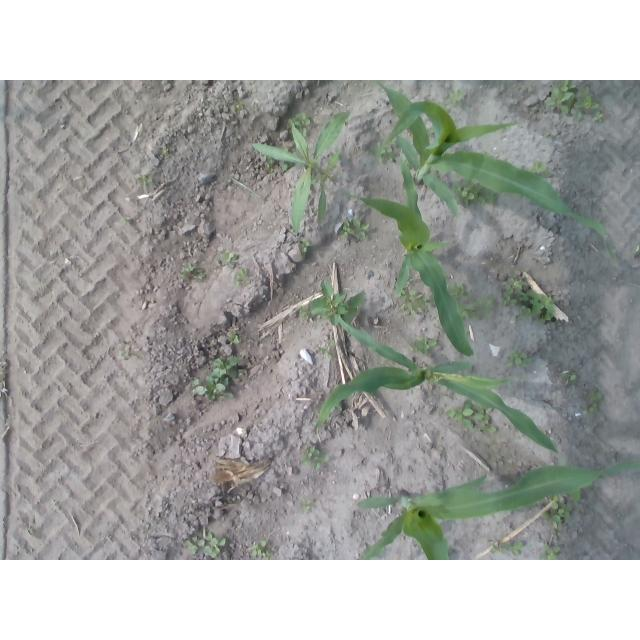Maize: (379, 86, 618, 262), (314, 312, 560, 457), (353, 457, 639, 559), (342, 157, 475, 354)
Weeds: (250, 112, 354, 237), (503, 270, 554, 327), (308, 279, 365, 330), (549, 81, 607, 125), (447, 404, 498, 440), (333, 214, 376, 244), (184, 530, 224, 558), (460, 181, 497, 211), (192, 376, 236, 401), (548, 495, 571, 537), (465, 294, 495, 322), (489, 535, 527, 557), (507, 346, 533, 374), (213, 357, 246, 379), (301, 447, 325, 473), (402, 291, 426, 317), (589, 386, 607, 419), (296, 498, 324, 517), (181, 264, 208, 281), (411, 338, 438, 354), (248, 538, 268, 558), (295, 115, 313, 137), (219, 250, 238, 270), (267, 157, 293, 171), (453, 281, 468, 304), (116, 348, 141, 361), (235, 270, 254, 287), (137, 171, 151, 193), (532, 162, 549, 178), (543, 546, 565, 558), (229, 327, 242, 346), (564, 371, 577, 389), (298, 236, 312, 252), (235, 103, 250, 117)
